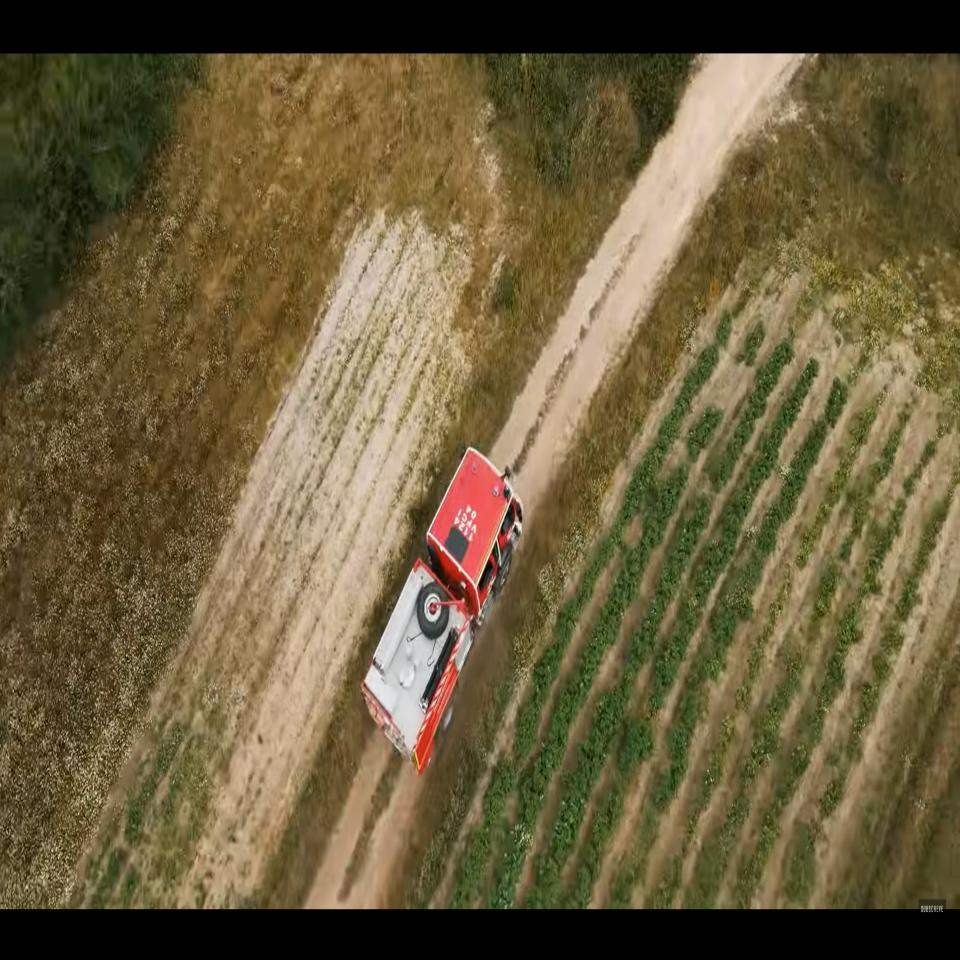bombeiro: (359, 446, 525, 781)
